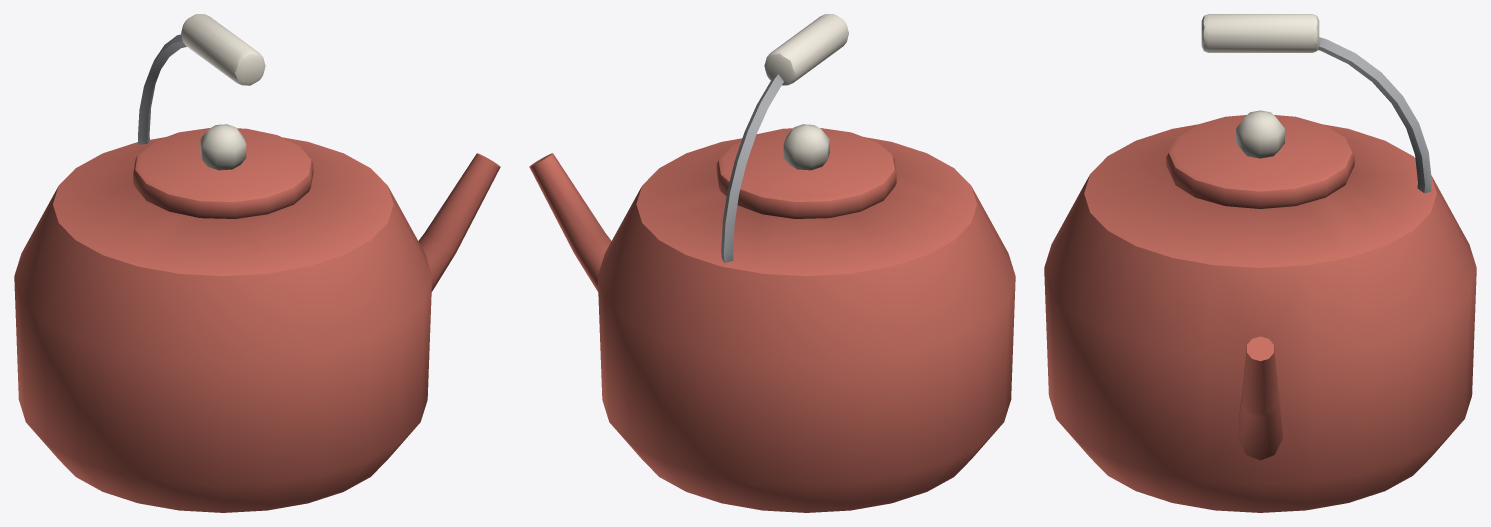
The model's file is cook_kettle.glb.
3 views of the same model, side by side, from view 1: azimuth 30°, elevation 25°; view 2: azimuth 150°, elevation 25°; view 3: azimuth 270°, elevation 25° (orthographic). The views are drawn at different scales.
Parts seen in each view (by area): view 1: PART; view 2: PART; view 3: PART.
Boxes of the visible parts, x1,y1,x2,y2 form: PART: (14, 14, 500, 512); PART: (529, 14, 1015, 512); PART: (1044, 14, 1476, 512).
Size of the model in its own units: 0.2319 by 0.1985 by 0.184.
